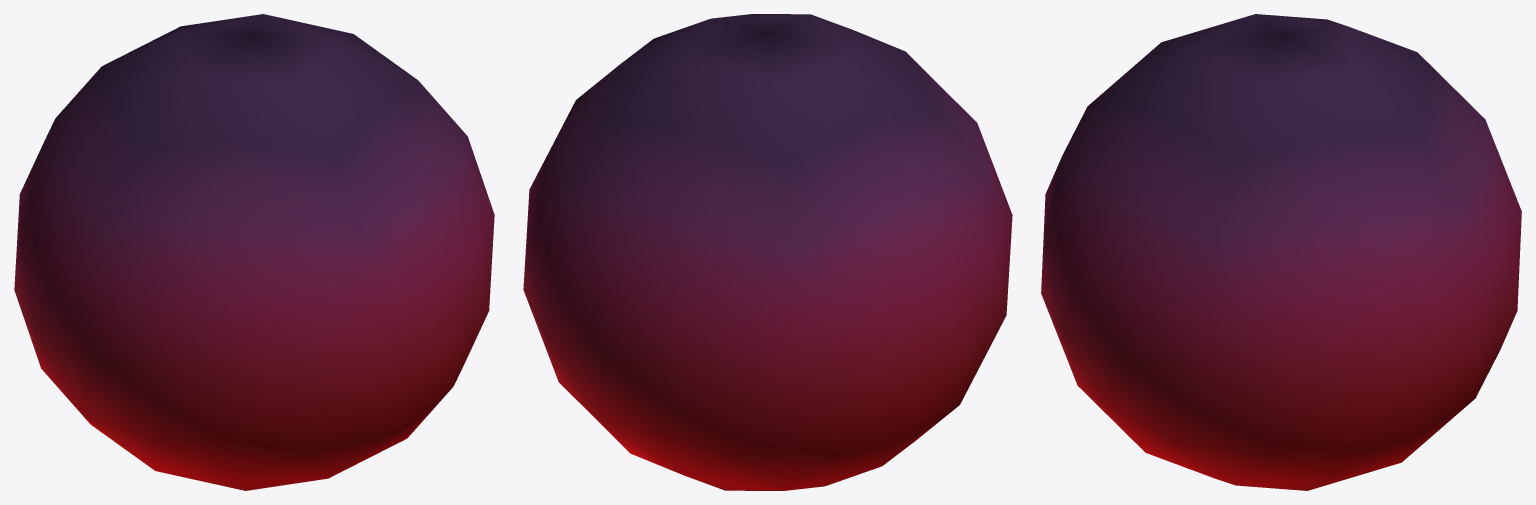
File: SkyDome7.dae
3 views of the same model, side by side, from view 1: azimuth 30°, elevation 25°; view 2: azimuth 150°, elevation 25°; view 3: azimuth 270°, elevation 25° (orthographic).
Parts seen in each view (by area): view 1: F3:GeoDome1-0; view 2: F3:GeoDome1-0; view 3: F3:GeoDome1-0.
Boxes of the visible parts, x1,y1,x2,y2 form: F3:GeoDome1-0: [14, 14, 494, 490]; F3:GeoDome1-0: [523, 14, 1012, 490]; F3:GeoDome1-0: [1041, 14, 1521, 490].
Size of the model in its own units: 25 by 25 by 25.
